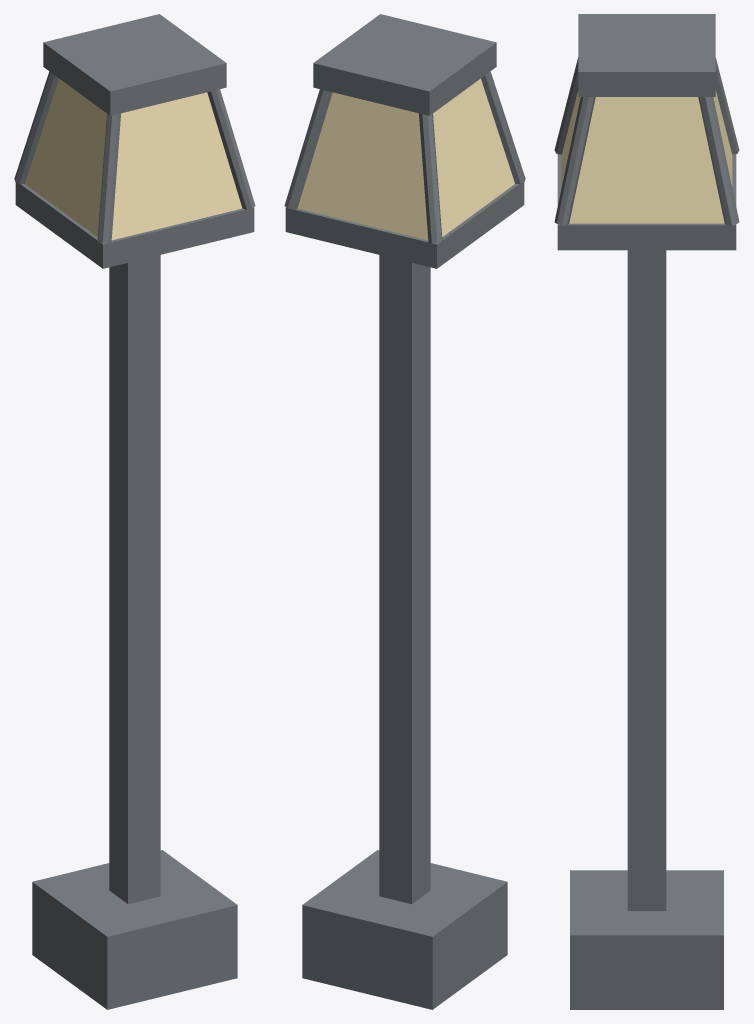
The model's file is Street_Lamp.glb.
3 views of the same model, side by side, from view 1: azimuth 30°, elevation 25°; view 2: azimuth 150°, elevation 25°; view 3: azimuth 270°, elevation 25° (orthographic). The views are drawn at different scales.
Parts seen in each view (by area): view 1: Street_Lamp; view 2: Street_Lamp; view 3: Street_Lamp.
Boxes of the visible parts, x1,y1,x2,y2 form: Street_Lamp: [14, 14, 255, 1009]; Street_Lamp: [284, 14, 525, 1009]; Street_Lamp: [554, 14, 739, 1009].
Size of the model in its own units: 0.673 by 3.75 by 0.673.
